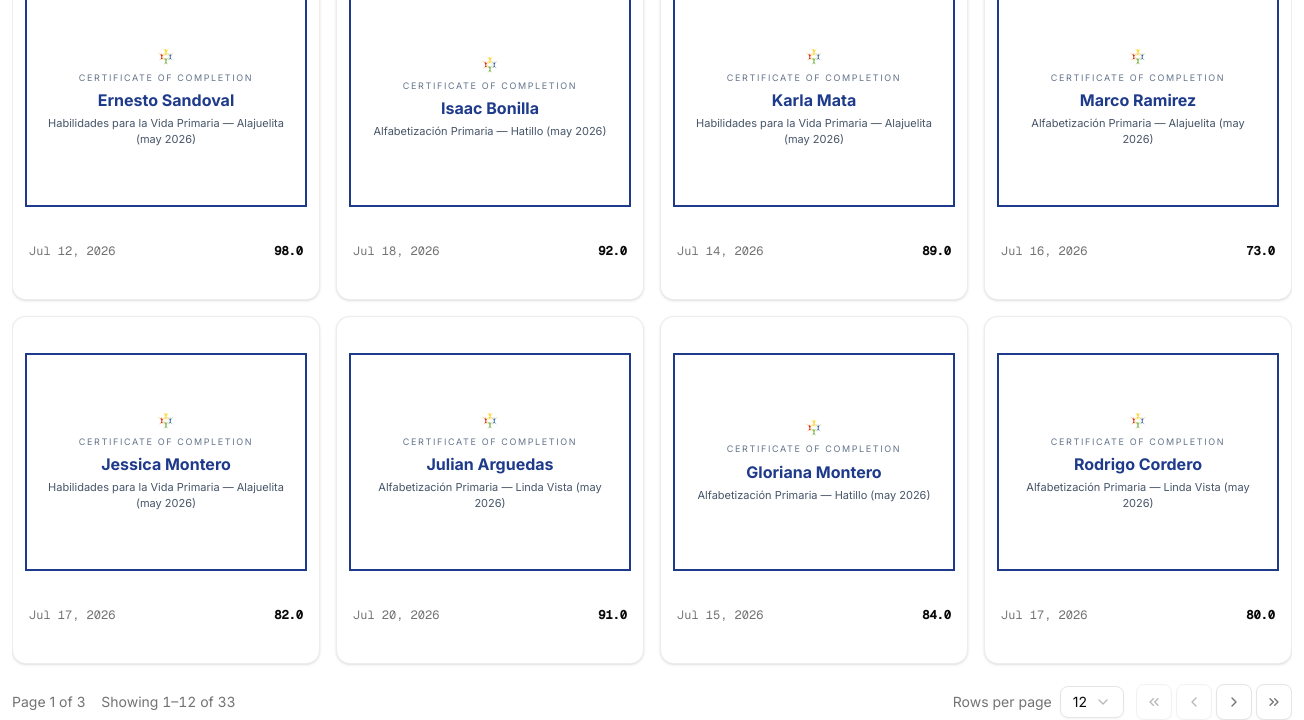
Test case: <CertificatesListPage /> › keeps the pager after a page size that fits every certificate
The width and height of the screenshot is (1304, 720).
(page scrolled)
Step 1. Click the dropdown named "Rows per page" → (1092, 702), box [1060,686,1124,718]
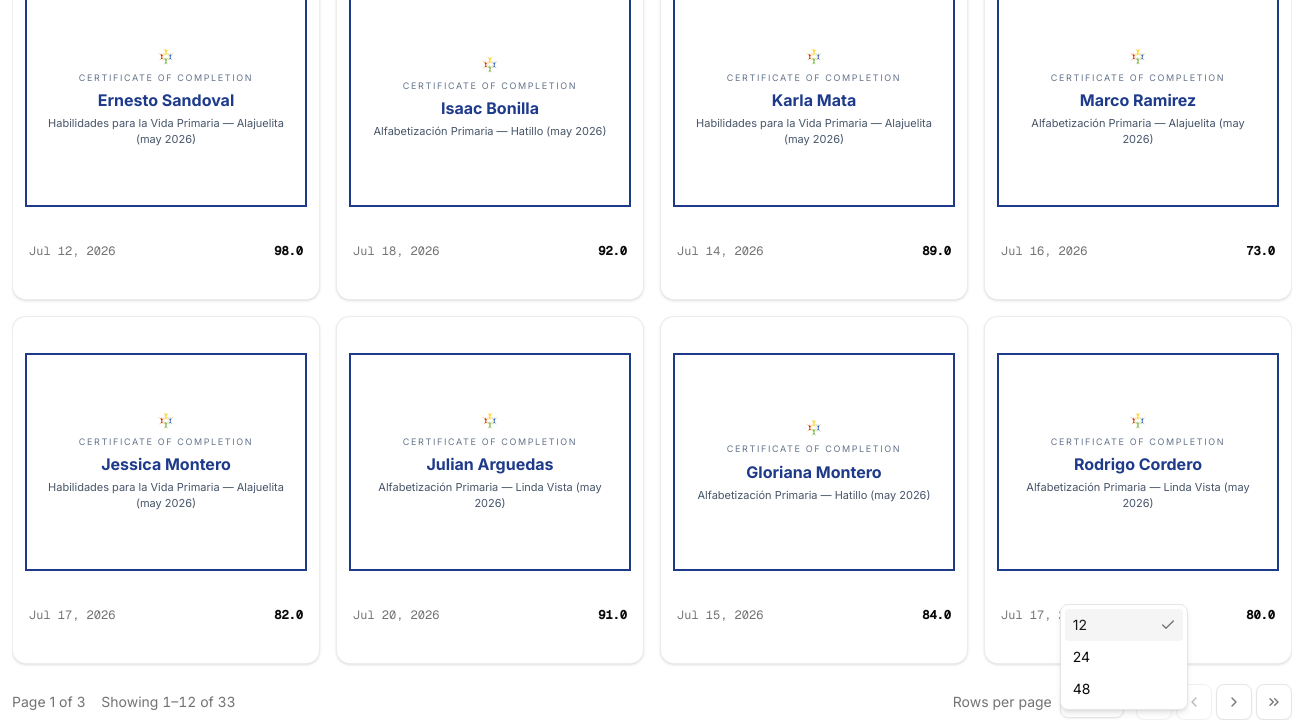
Step 2. Click the option "48" → (1082, 688), box [1073,680,1090,697]
(page scrolled)
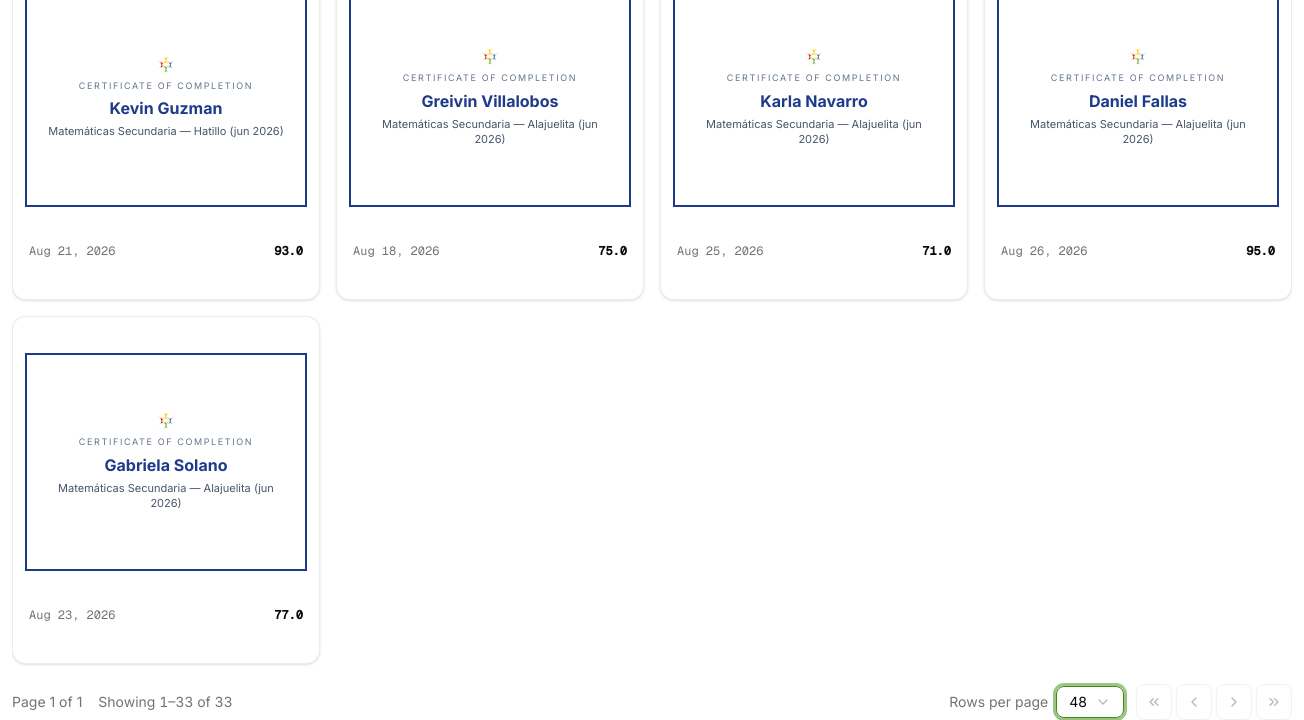
Result: the text "Page 1 of 1" is shown at [12,692,82,712]
Result: the dropdown named "Rows per page" reads "48" at [1056,686,1124,718]
